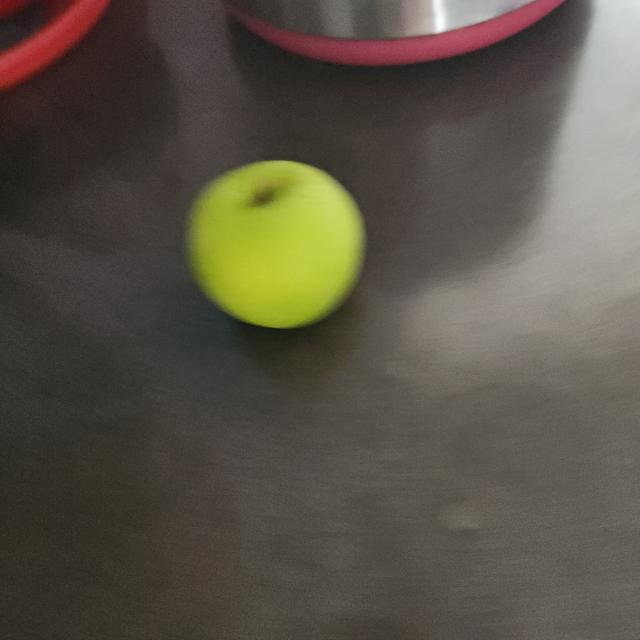apple: (178, 150, 376, 333)
